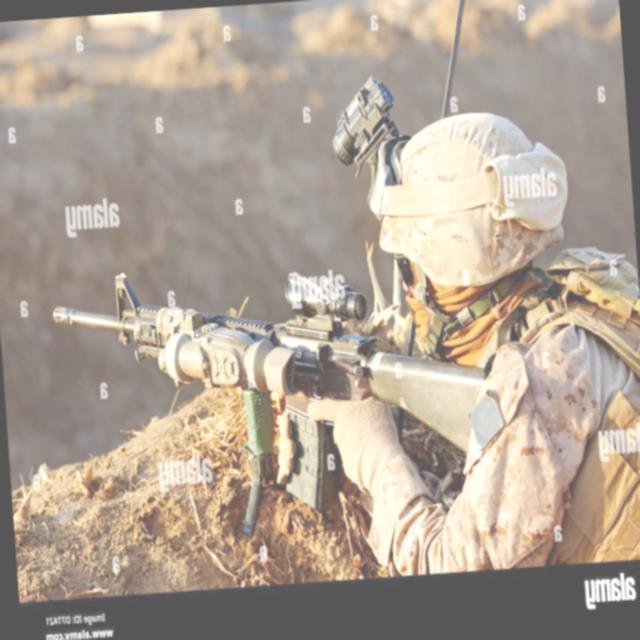m16: (6, 43, 634, 576)
